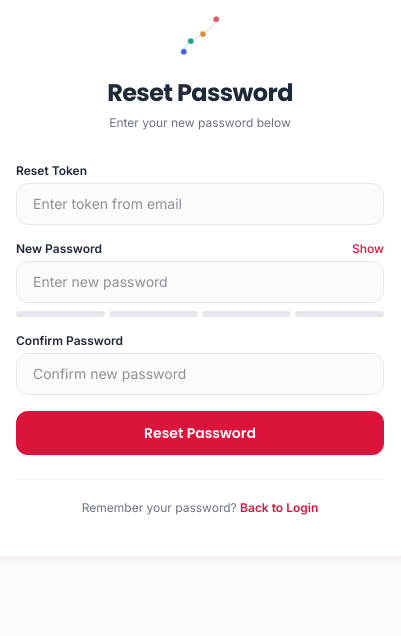
Test: ResetPasswordPage › shows error for invalid token
Type "invalid-token" into the field with placeholder "Enter token from email".
click(200, 204); type("invalid-token")  # box [16,183,384,225]
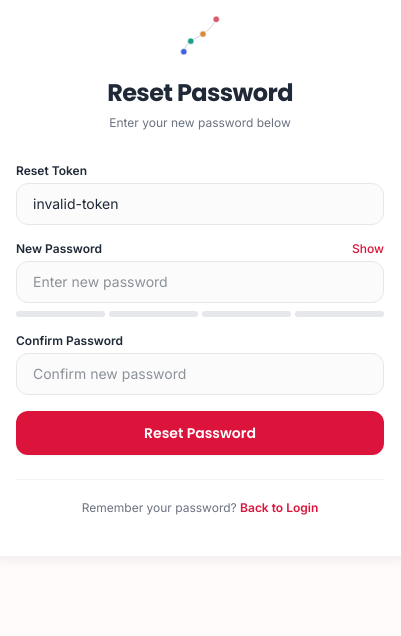
Type "StrongPass1!" into the password field with placeholder "Enter new password".
click(200, 282); type("StrongPass1!")  # box [16,261,384,303]
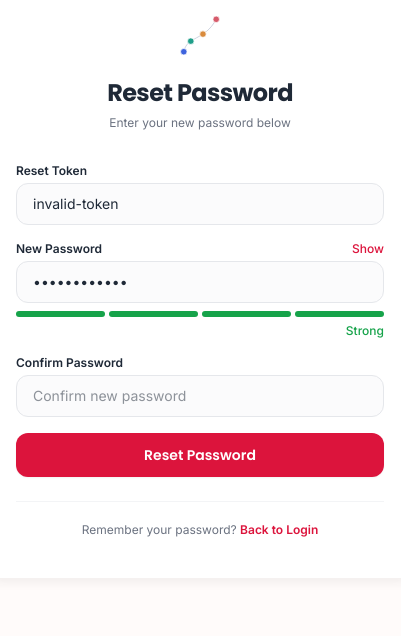
Type "StrongPass1!" into the password field with placeholder "Confirm new password".
click(200, 396); type("StrongPass1!")  # box [16,375,384,417]
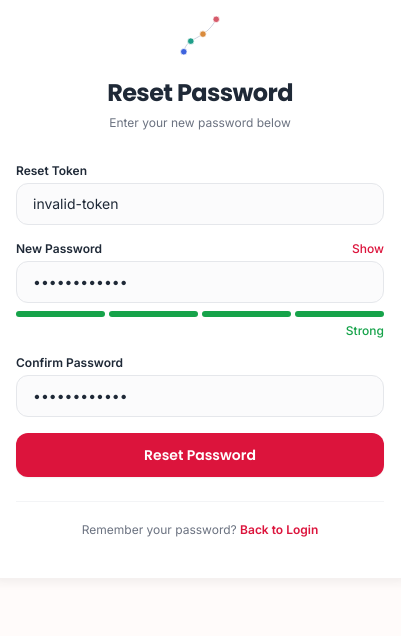
Click the button "Reset Password".
click(200, 455)  # box [16,433,384,477]
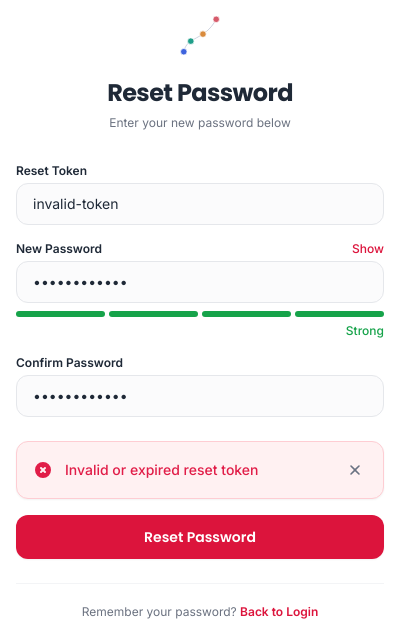
Check: the text "Invalid or expired reset token" is shown, box [65,459,258,481]
